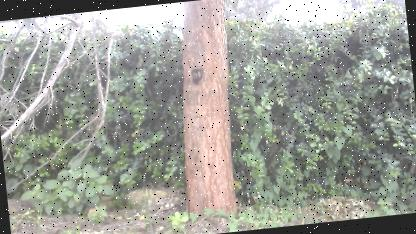tree: (164, 0, 250, 222)
